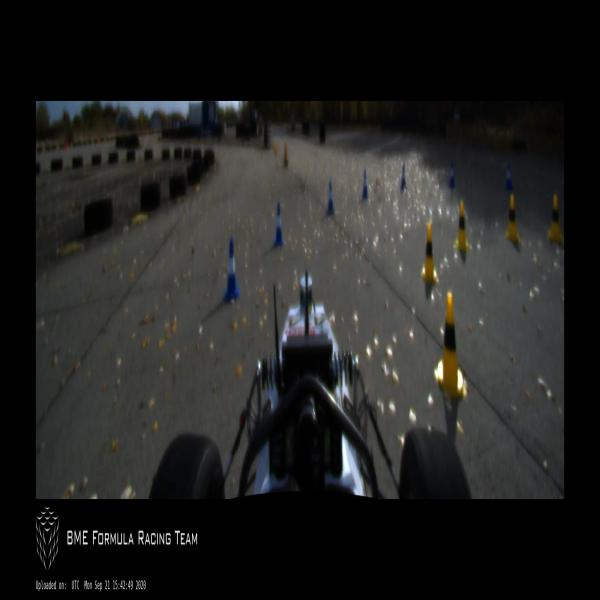blue_cone: (224, 237, 239, 299), (274, 203, 284, 245), (327, 180, 333, 213), (362, 170, 368, 198), (505, 164, 511, 190), (400, 164, 406, 190), (449, 162, 455, 187)
yellow_cone: (436, 291, 466, 396), (422, 224, 436, 280), (455, 200, 469, 251), (505, 195, 519, 241), (548, 195, 562, 241)
